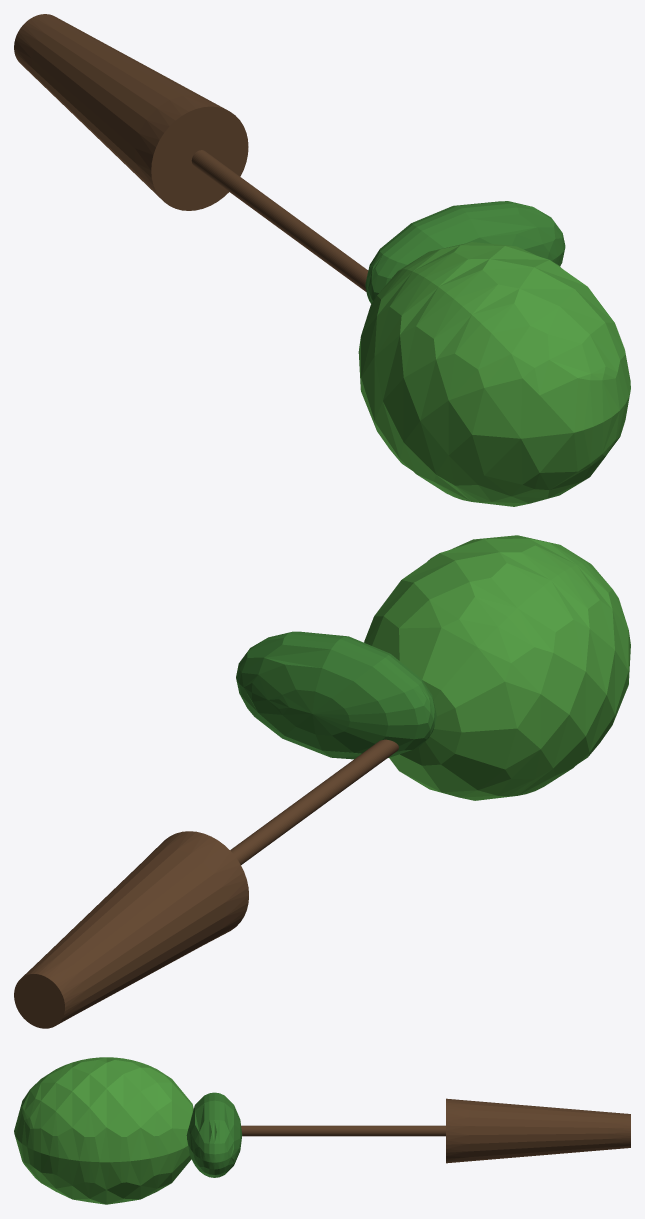
File: plug.obj
3 renders of one model, top to bottom at view 1: azimuth 30°, elevation 25°; view 2: azimuth 150°, elevation 25°; view 3: azimuth 270°, elevation 25°, orthographic. The views are drawn at different scales.
Parts seen in each view (by area): view 1: crown_2, rootball_0, leaf_3, stem_1; view 2: crown_2, rootball_0, leaf_3, stem_1; view 3: crown_2, rootball_0, leaf_3, stem_1.
Boxes of the visible parts, <box> form: crown_2: <box>358,242,630,506</box>; rootball_0: <box>14,14,248,210</box>; leaf_3: <box>365,201,565,303</box>; stem_1: <box>191,150,368,291</box>; crown_2: <box>364,535,630,800</box>; rootball_0: <box>14,831,248,1028</box>; leaf_3: <box>236,631,436,759</box>; stem_1: <box>230,739,398,864</box>; crown_2: <box>14,1057,193,1204</box>; rootball_0: <box>446,1098,630,1163</box>; leaf_3: <box>186,1092,242,1177</box>; stem_1: <box>241,1125,445,1136</box>.
Size of the model in its own units: 0.118 by 0.0959 by 0.4.
